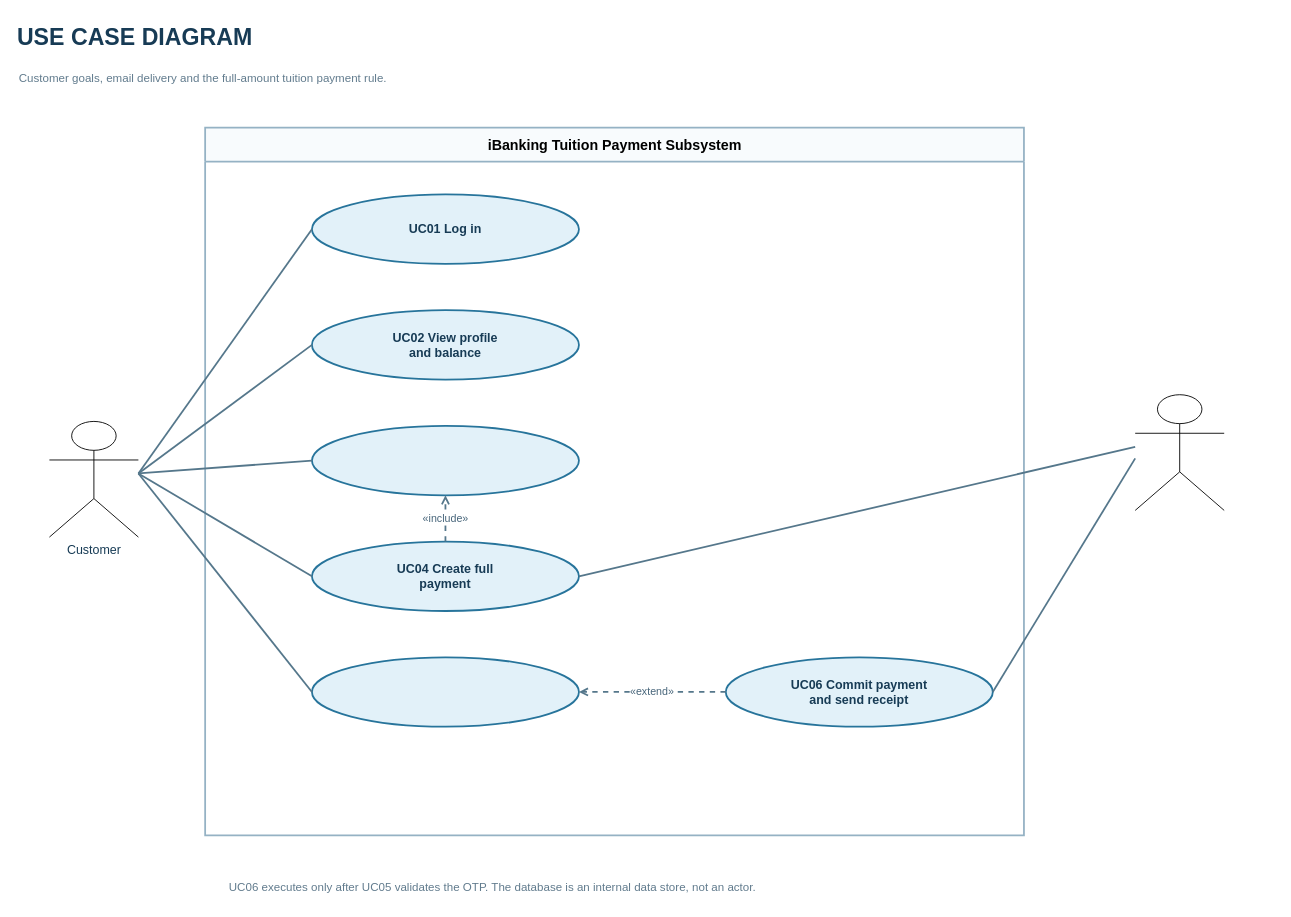
This 1291x917 diagram has some shape labels left out. Here are the shapes that lost their labels. From the top down, the centre of each, then its label:
pixel 445 460: UC03 Look up tuition by student ID
pixel 1179 452: Email provider
pixel 445 691: UC05 Confirm payment with email OTP
